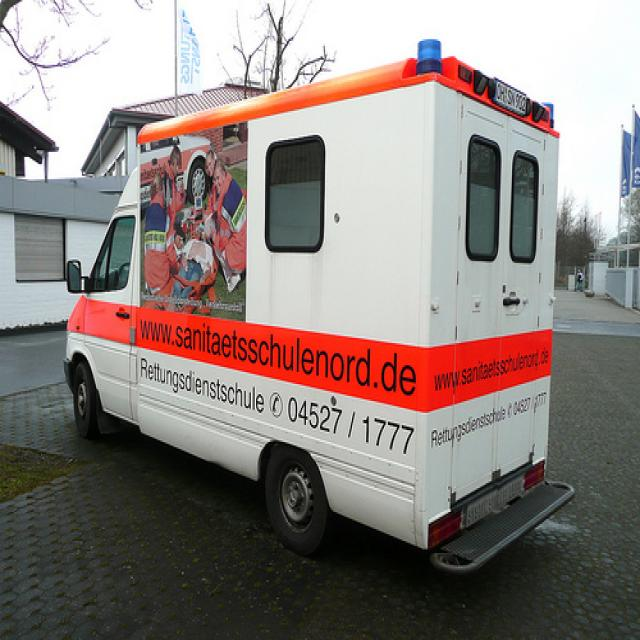emergency-vehicle: (62, 56, 556, 570)
